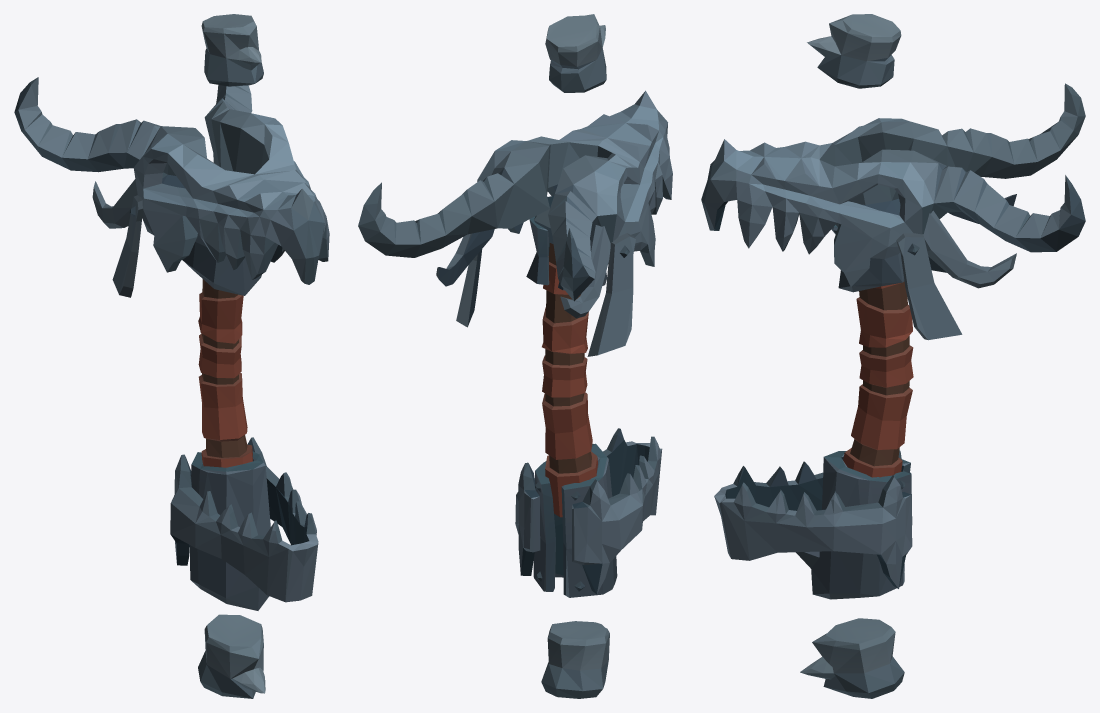
File: mediumBowDragonHandle.glb
3 views of the same model, side by side, from view 1: azimuth 30°, elevation 25°; view 2: azimuth 150°, elevation 25°; view 3: azimuth 270°, elevation 25° (orthographic).
Parts seen in each view (by area): view 1: mediumBowDragonHandle; view 2: mediumBowDragonHandle; view 3: mediumBowDragonHandle.
Part boxes in pixels (box(x1,y1,x2,y2)): mediumBowDragonHandle: box(14, 14, 329, 698); mediumBowDragonHandle: box(358, 14, 672, 698); mediumBowDragonHandle: box(701, 14, 1085, 698).
Size of the model in its own units: 0.2507 by 0.7256 by 0.3765.
